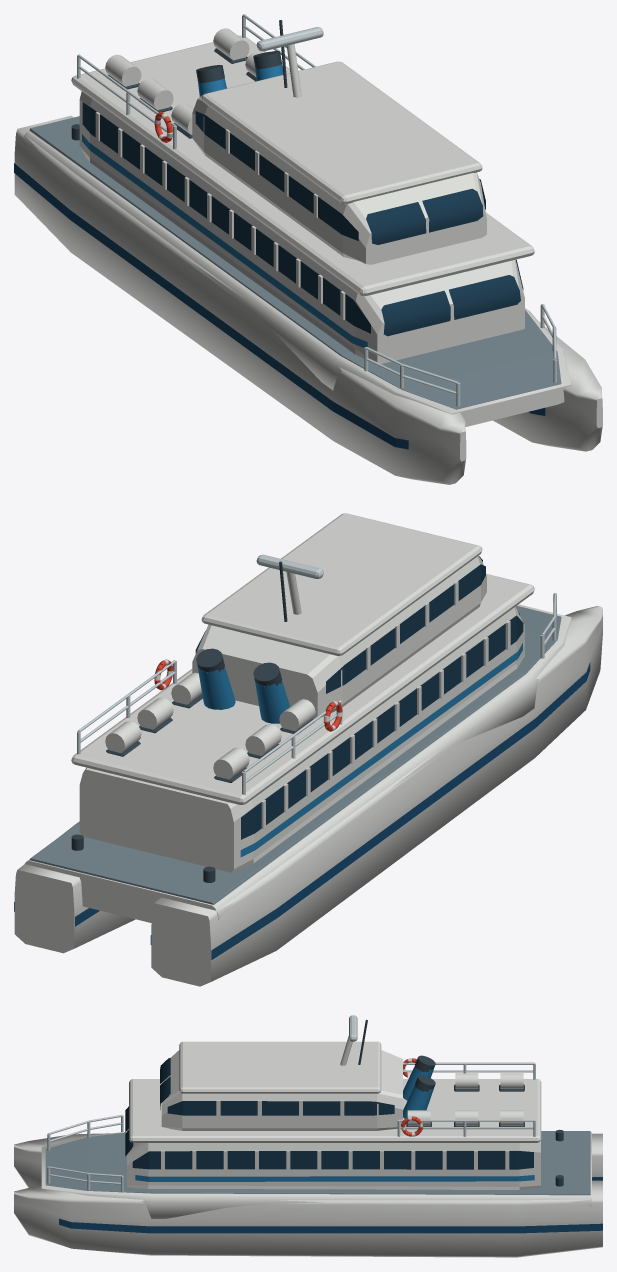
File: ferry.glb
3 views of the same model, one above another, from view 1: azimuth 30°, elevation 25°; view 2: azimuth 150°, elevation 25°; view 3: azimuth 270°, elevation 25° (orthographic). The views are drawn at different scales.
Parts seen in each view (by area): view 1: ferry; view 2: ferry; view 3: ferry.
Part boxes in pixels (x1,y1,x2,y2): ferry: (14, 14, 602, 484); ferry: (14, 513, 602, 986); ferry: (14, 1015, 602, 1257).
Size of the model in its own units: 2.6 by 3.53 by 9.13.
